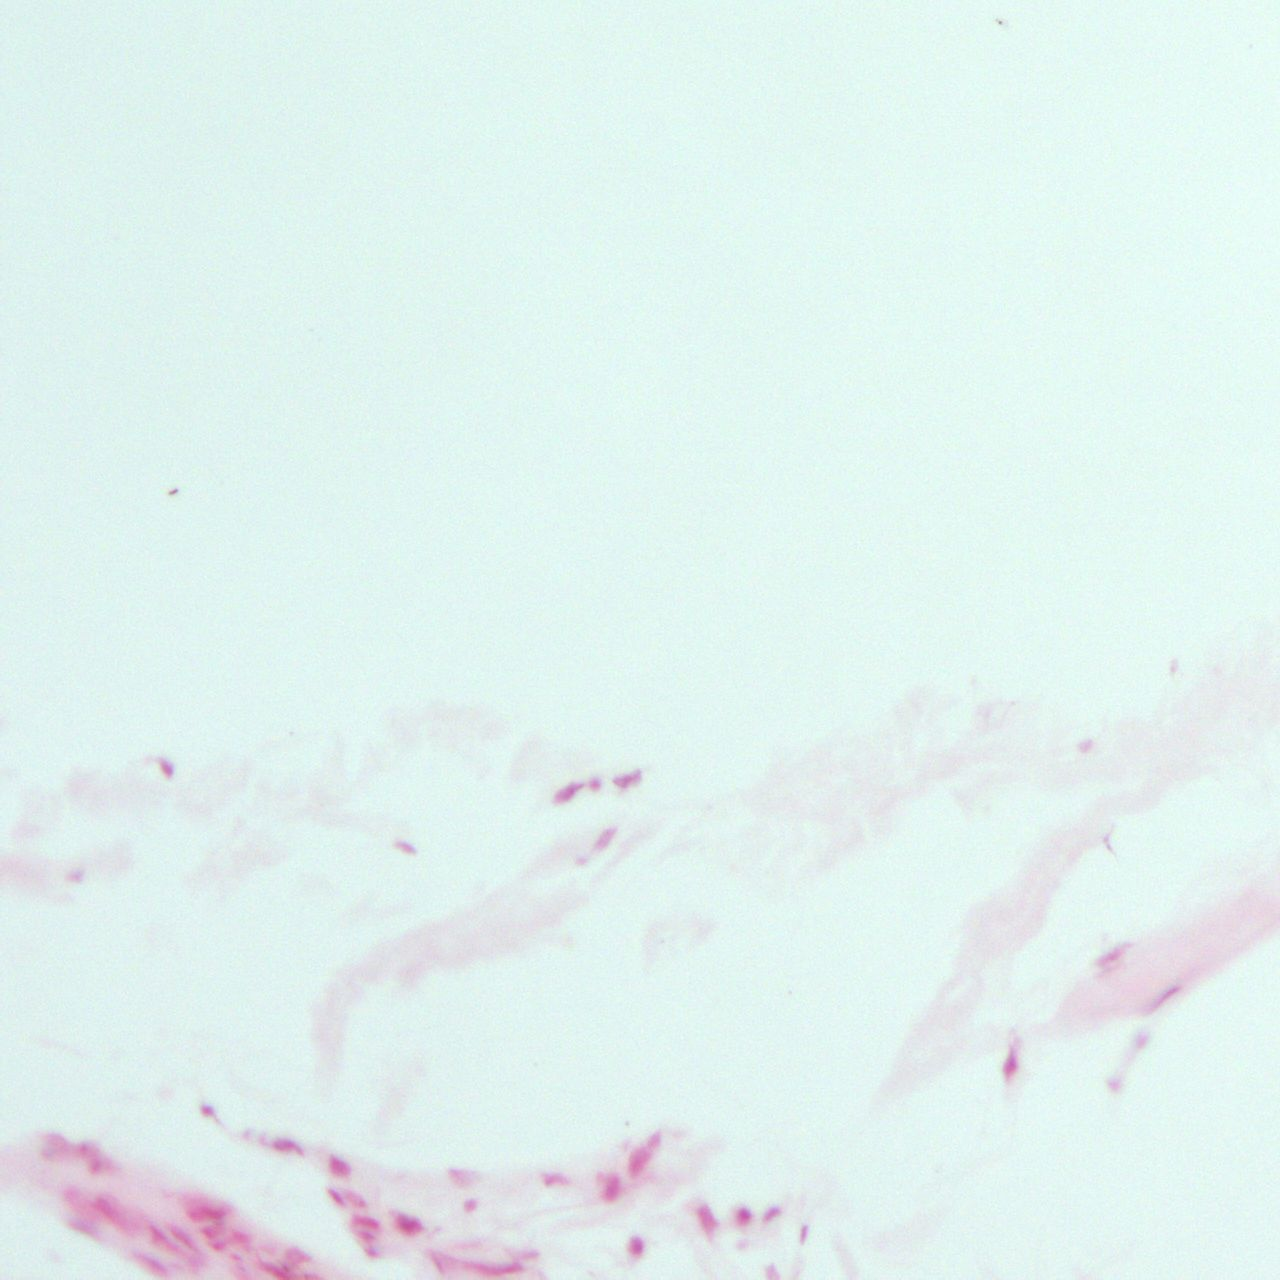dust: (167, 488, 178, 495), (997, 18, 1005, 27)
nucleus-AC: (92, 1192, 144, 1235), (576, 822, 622, 869), (140, 1221, 184, 1262), (129, 1245, 174, 1280), (162, 1219, 202, 1256), (65, 1214, 107, 1247), (61, 1187, 100, 1221), (1093, 939, 1133, 972), (549, 776, 584, 809), (257, 1253, 298, 1280), (621, 1145, 652, 1179), (1147, 983, 1181, 1014), (42, 1133, 74, 1165), (691, 1202, 721, 1235), (609, 766, 645, 792), (284, 1241, 313, 1270), (187, 1200, 227, 1221), (273, 1136, 309, 1159), (462, 1262, 521, 1276), (1000, 1046, 1020, 1087), (344, 1224, 378, 1245), (392, 1211, 423, 1234), (339, 1185, 366, 1211), (601, 1172, 623, 1203), (448, 1168, 481, 1188), (154, 754, 178, 780), (643, 1127, 666, 1153), (391, 836, 417, 858), (349, 1212, 382, 1229), (758, 1203, 782, 1226), (327, 1155, 350, 1178), (323, 1186, 344, 1209), (509, 1246, 541, 1261), (429, 1247, 446, 1275), (626, 1234, 645, 1256), (541, 1172, 567, 1188), (1101, 835, 1118, 859), (762, 1262, 782, 1280), (733, 1205, 750, 1225), (198, 1222, 216, 1240), (230, 1228, 251, 1241), (1079, 737, 1095, 754), (88, 1159, 106, 1174), (80, 1141, 95, 1158), (1134, 1030, 1149, 1047), (66, 871, 84, 884), (1107, 1077, 1122, 1092), (462, 1198, 479, 1211), (587, 776, 600, 793), (200, 1105, 215, 1118), (1169, 658, 1179, 676), (799, 1225, 808, 1243), (363, 1248, 377, 1259), (208, 1240, 224, 1249), (230, 1252, 240, 1261)
